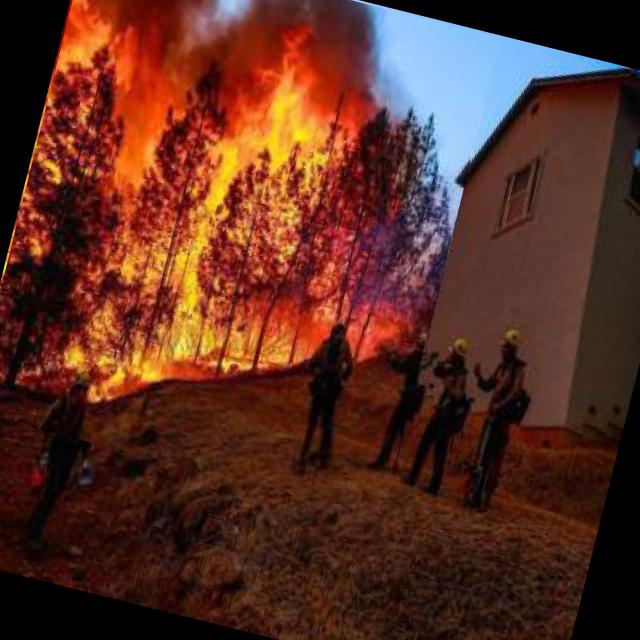fire: (0, 0, 500, 514)
